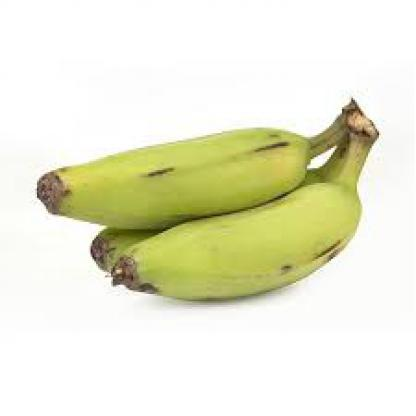Fresh: (20, 55, 396, 333)
